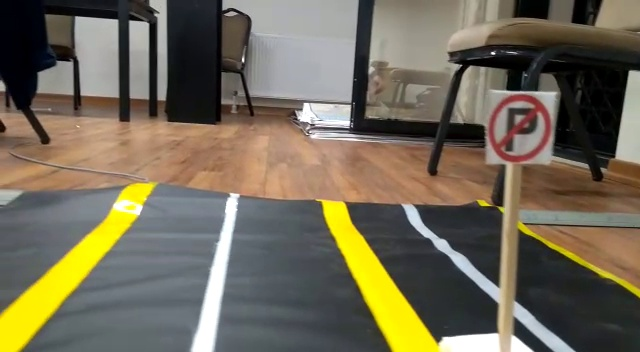park_yapilmaz: (484, 92, 553, 165)
